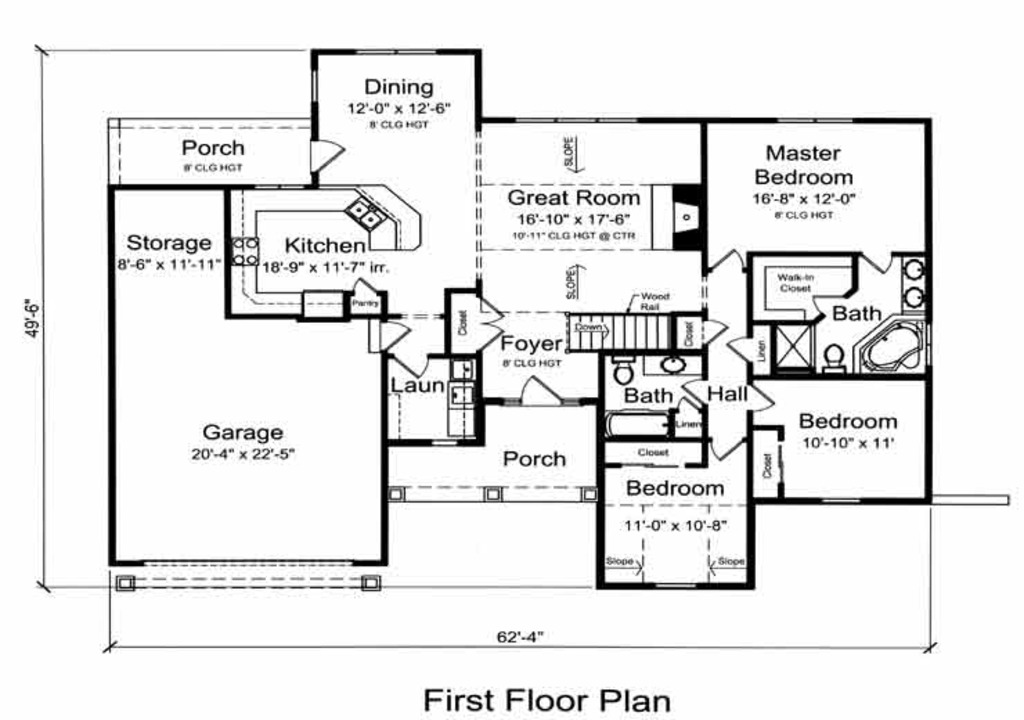door: (470, 289, 506, 353), (703, 243, 756, 283), (514, 366, 570, 403), (385, 346, 433, 382), (706, 434, 747, 471), (306, 138, 345, 176), (740, 380, 780, 416), (860, 244, 898, 281), (365, 317, 407, 349), (806, 288, 848, 320), (678, 378, 717, 406), (724, 332, 756, 366), (704, 318, 734, 349), (666, 394, 711, 412), (344, 274, 380, 296)
large_sink: (605, 350, 637, 394), (818, 344, 848, 381)
small_sink: (896, 254, 933, 319), (646, 350, 704, 377)
stairs: (562, 306, 705, 347)
tub: (602, 410, 675, 436)
twin_sink: (333, 191, 396, 241)
